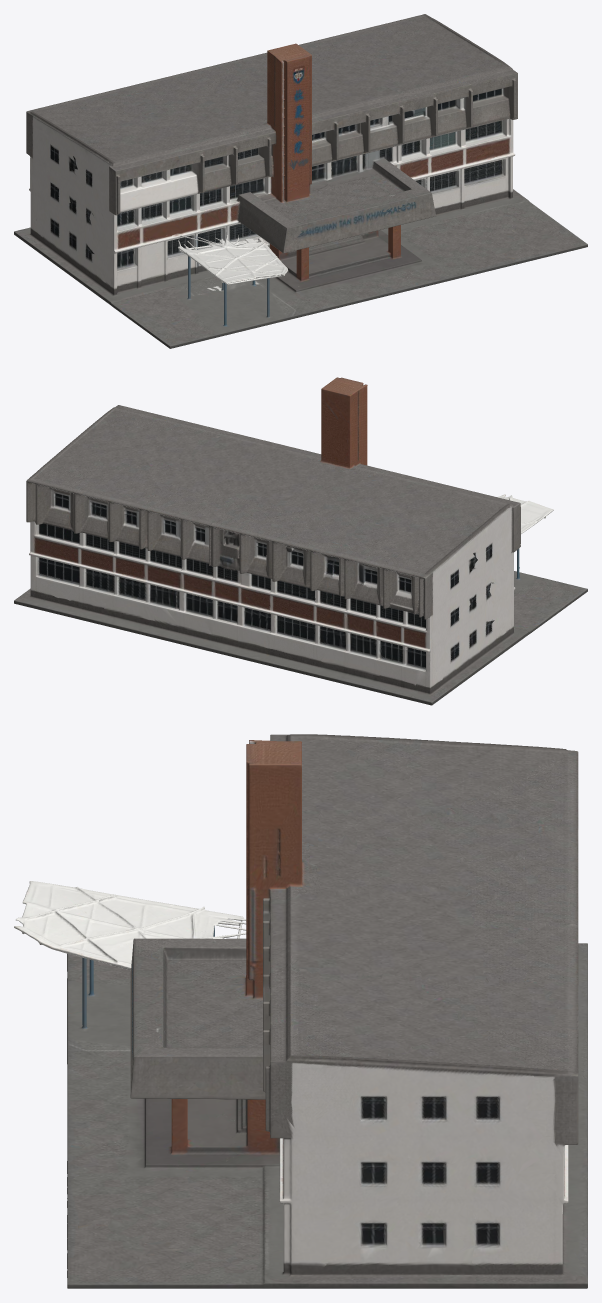
File: FOCS_building.glb
3 views of the same model, one above another, from view 1: azimuth 30°, elevation 25°; view 2: azimuth 150°, elevation 25°; view 3: azimuth 270°, elevation 25° (orthographic). The views are drawn at different scales.
Parts seen in each view (by area): view 1: Meshy_AI_Bangunan_Tan_Sri_Khaw_0814080706_texture; view 2: Meshy_AI_Bangunan_Tan_Sri_Khaw_0814080706_texture; view 3: Meshy_AI_Bangunan_Tan_Sri_Khaw_0814080706_texture.
Boxes of the visible parts, x1,y1,x2,y2 form: Meshy_AI_Bangunan_Tan_Sri_Khaw_0814080706_texture: [14, 14, 587, 348]; Meshy_AI_Bangunan_Tan_Sri_Khaw_0814080706_texture: [14, 377, 587, 705]; Meshy_AI_Bangunan_Tan_Sri_Khaw_0814080706_texture: [14, 734, 587, 1288].
Size of the model in its own units: 1.9 by 0.8972 by 1.36.
Materials: 1 (1 with a texture image).
